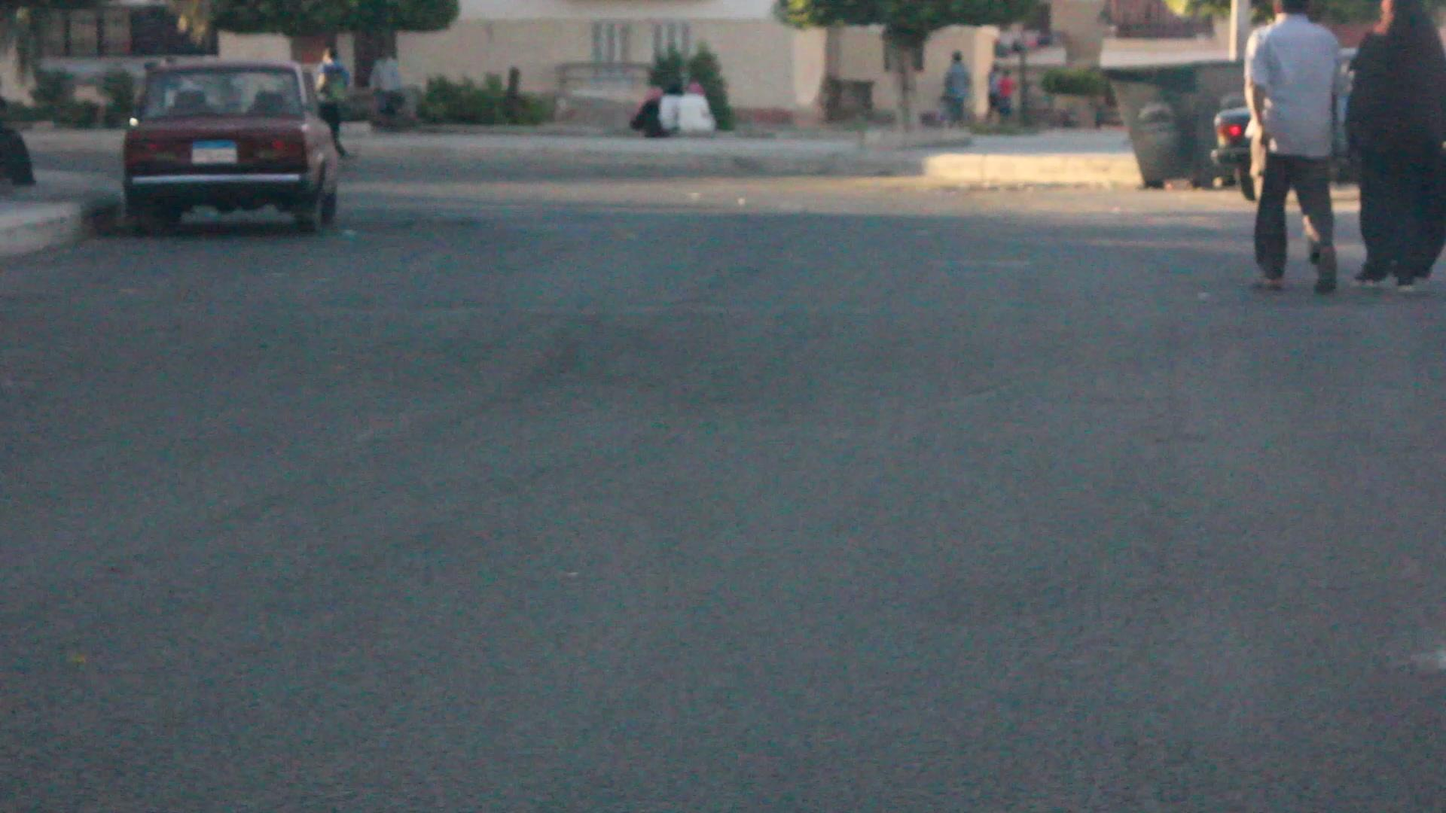Bump: (0, 286, 1446, 422)
